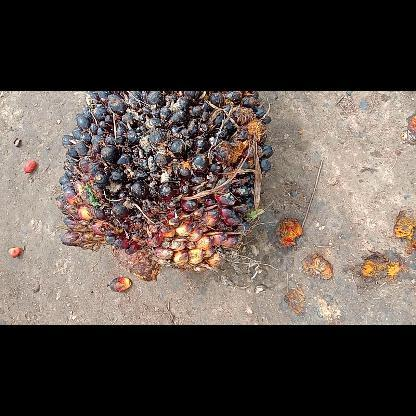TBS mentah: (54, 90, 276, 286)
